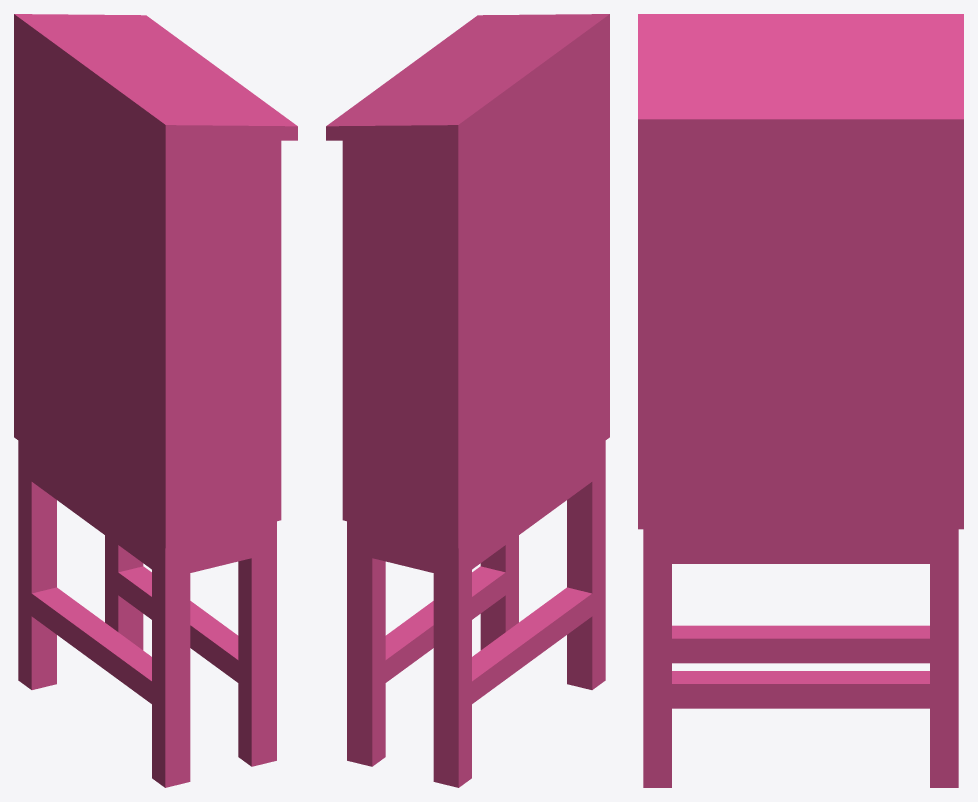
The model's file is FireCistern.fbx.
3 renders of one model, left to right at view 1: azimuth 30°, elevation 25°; view 2: azimuth 150°, elevation 25°; view 3: azimuth 270°, elevation 25°, orthographic. The views are drawn at different scales.
Visible parts, largest first — view 1: FireCistern; view 2: FireCistern; view 3: FireCistern.
Part boxes in pixels (bbox=[...]): FireCistern: bbox=[14, 14, 297, 787]; FireCistern: bbox=[326, 14, 609, 787]; FireCistern: bbox=[638, 14, 963, 787].
Size of the model in its own units: 0.3299 by 1.59 by 0.6563.
